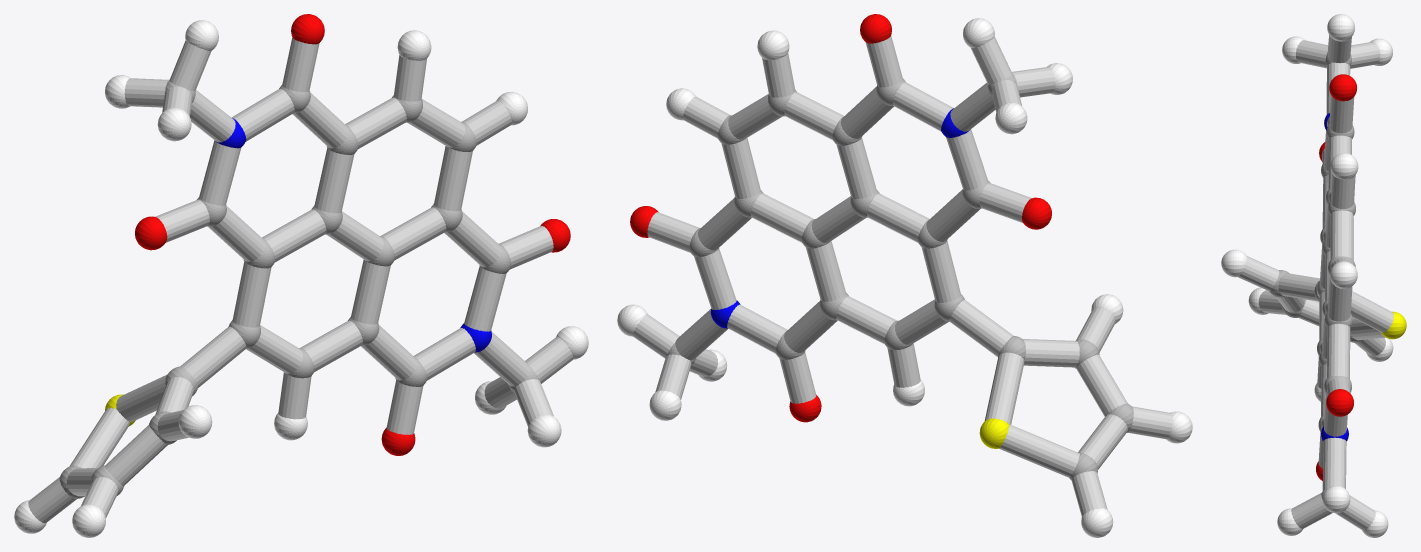
Rendered from Dimethyl_Naphthalene_Dicarboximide_Phi_10_Theta_290_Thiophene.glb.
3 renders of one model, left to right at view 1: azimuth 30°, elevation 25°; view 2: azimuth 150°, elevation 25°; view 3: azimuth 270°, elevation 25°, orthographic. The views are drawn at different scales.
Parts seen in each view (by area): view 1: grp14119, grp7241, grp1, grp12309, grp11585; view 2: grp14119, grp7241, grp1, grp12309, grp11585, grp13757; view 3: grp14119, grp7241, grp1, grp12309, grp13757.
Part boxes in pixels (bbox=[...]): grp14119: bbox=[28, 38, 573, 523]; grp7241: bbox=[14, 20, 588, 537]; grp1: bbox=[59, 81, 539, 498]; grp12309: bbox=[135, 14, 570, 455]; grp11585: bbox=[214, 118, 491, 352]; grp14119: bbox=[632, 35, 1172, 516]; grp7241: bbox=[617, 18, 1192, 537]; grp1: bbox=[666, 73, 1133, 480]; grp12309: bbox=[630, 14, 1051, 422]; grp11585: bbox=[710, 108, 969, 328]; grp13757: bbox=[979, 418, 1009, 448]; grp14119: bbox=[1238, 35, 1393, 530]; grp7241: bbox=[1221, 14, 1393, 537]; grp1: bbox=[1269, 53, 1363, 512]; grp12309: bbox=[1316, 74, 1356, 480]; grp13757: bbox=[1381, 311, 1406, 339].
Bounding box in the file's own units: 11.38 × 9.6 × 3.98.
